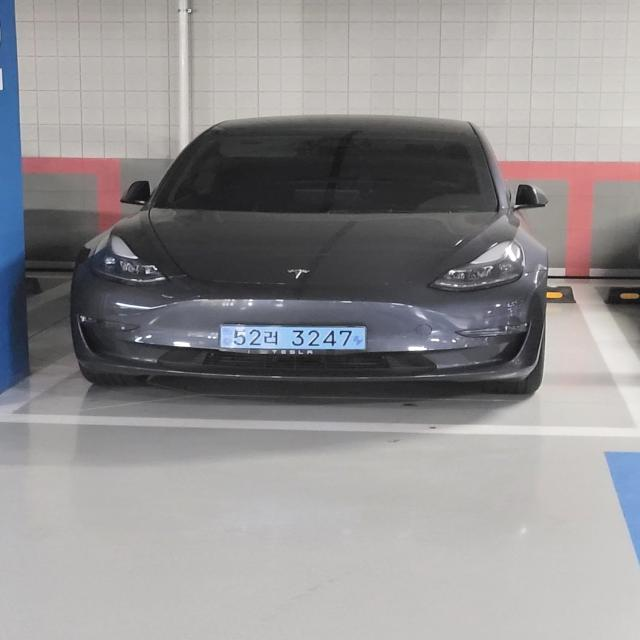EV_plate: (217, 318, 376, 358)
car: (66, 109, 556, 407)
